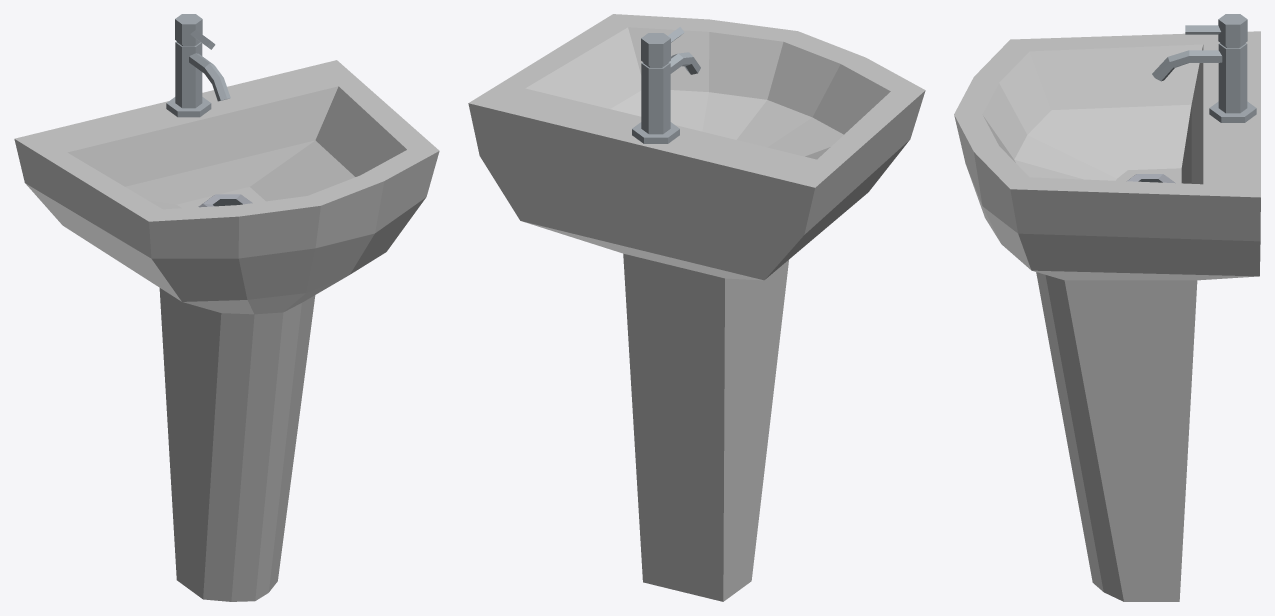
The model's file is SM_Prop_BathroomSink_01.fbx.
3 views of the same model, side by side, from view 1: azimuth 30°, elevation 25°; view 2: azimuth 150°, elevation 25°; view 3: azimuth 270°, elevation 25° (orthographic). The views are drawn at different scales.
Parts seen in each view (by area): view 1: SM_Prop_BathroomSink_01; view 2: SM_Prop_BathroomSink_01; view 3: SM_Prop_BathroomSink_01.
Part boxes in pixels (x1=…): SM_Prop_BathroomSink_01: x1=14, y1=14, x2=439, y2=601; SM_Prop_BathroomSink_01: x1=468, y1=14, x2=925, y2=601; SM_Prop_BathroomSink_01: x1=954, y1=14, x2=1260, y2=601.
Bounding box in the file's own units: 77.76 × 123 × 60.67.
